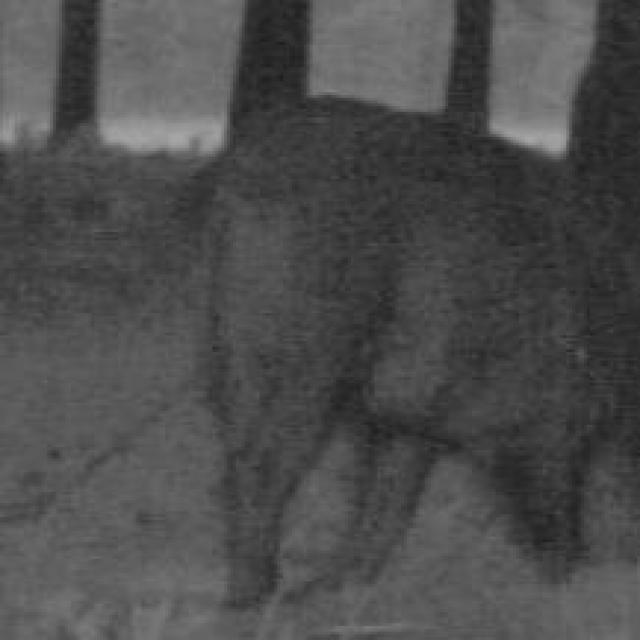pig: (174, 88, 640, 578)
